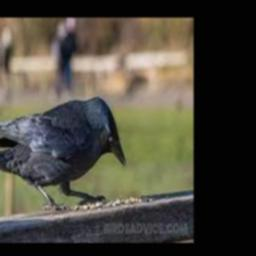Crow: (0, 96, 126, 210)
